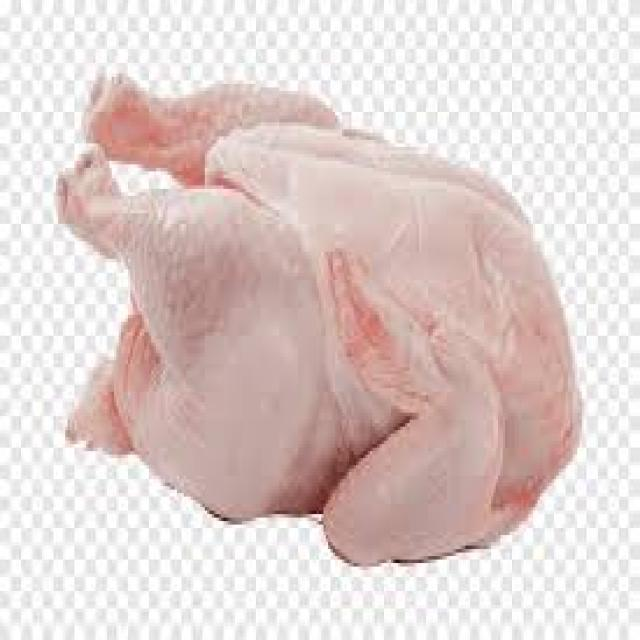chicken: (56, 77, 582, 565)
